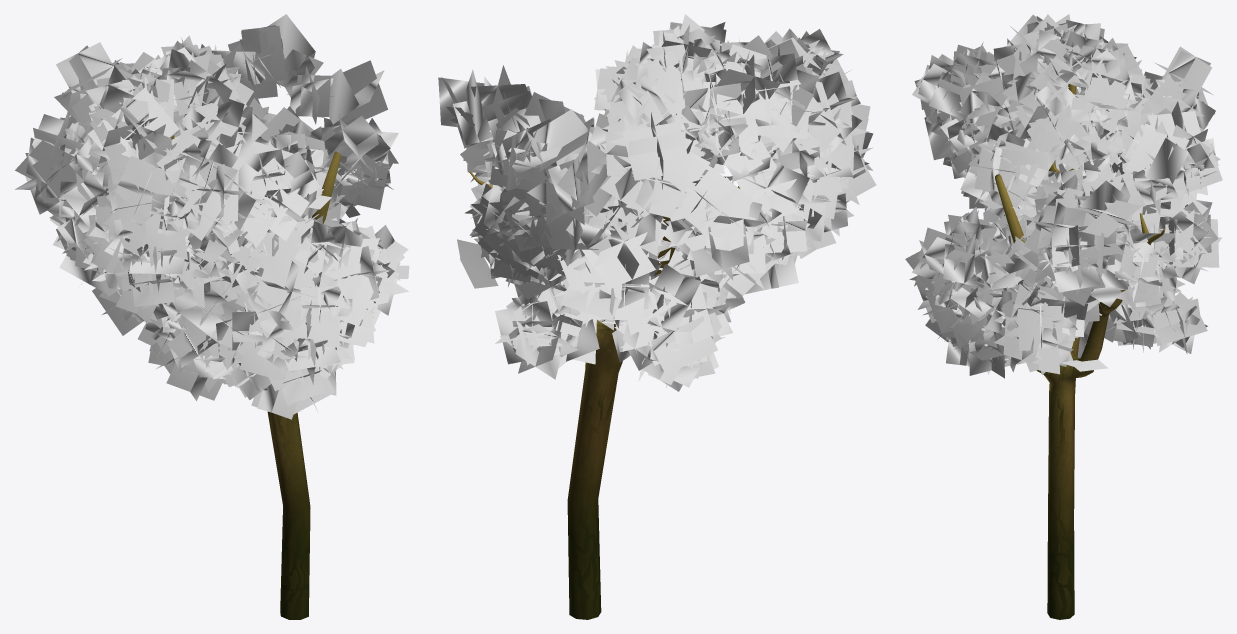
File: 4_Arbol_LOD0.fbx
The picture shows the model from 3 angles, left to right: view 1: azimuth 30°, elevation 25°; view 2: azimuth 150°, elevation 25°; view 3: azimuth 270°, elevation 25°; orthographic projection. The views are drawn at different scales.
Visible parts, largest first — view 1: 4_Arbol_LOD0; view 2: 4_Arbol_LOD0; view 3: 4_Arbol_LOD0.
Part boxes in pixels (box(x1,y1,x2,y2)): 4_Arbol_LOD0: box(15, 14, 409, 619); 4_Arbol_LOD0: box(438, 14, 876, 619); 4_Arbol_LOD0: box(905, 14, 1222, 619).
Size of the model in its own units: 935 by 1513 by 812.
